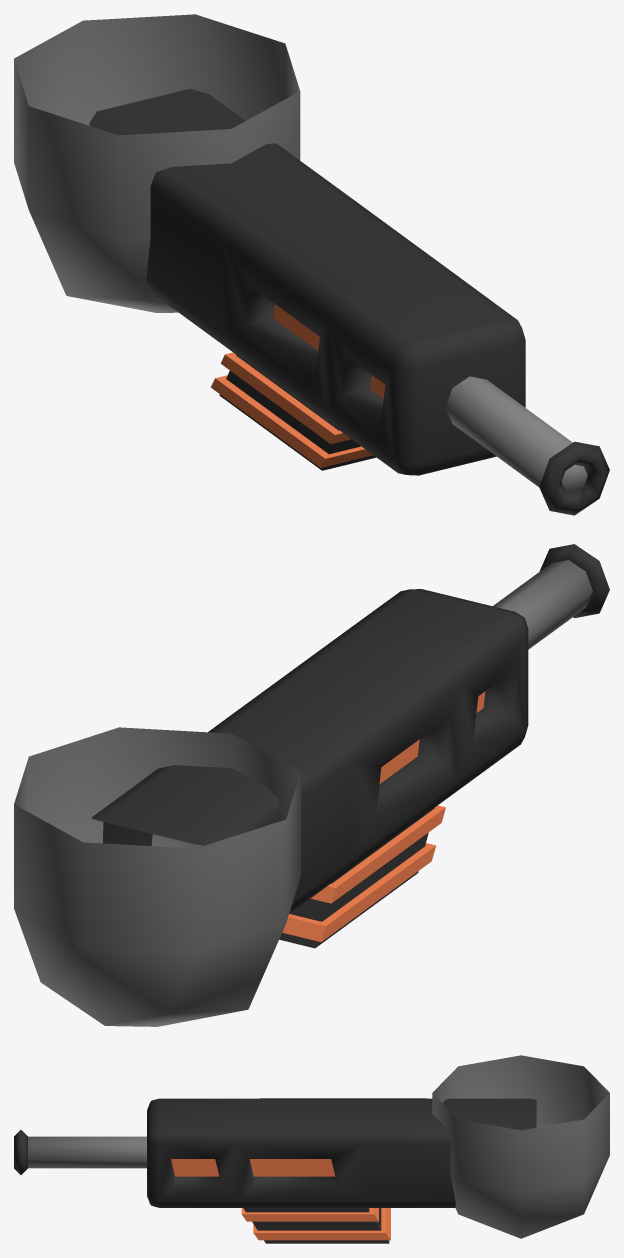
Rendered from Turret_03_H.fbx.
The picture shows the model from 3 angles, top to bottom: view 1: azimuth 30°, elevation 25°; view 2: azimuth 150°, elevation 25°; view 3: azimuth 270°, elevation 25°; orthographic projection. The views are drawn at different scales.
Visible parts, largest first — view 1: 03; view 2: 03; view 3: 03.
Part boxes in pixels (left/top/right/bottom): 03: left=14, top=14, right=609, bottom=515; 03: left=14, top=544, right=609, bottom=1026; 03: left=14, top=1055, right=609, bottom=1243.
Bounding box in the file's own units: 14.96 × 13.28 × 50.17.
1 material, 1 textured.
